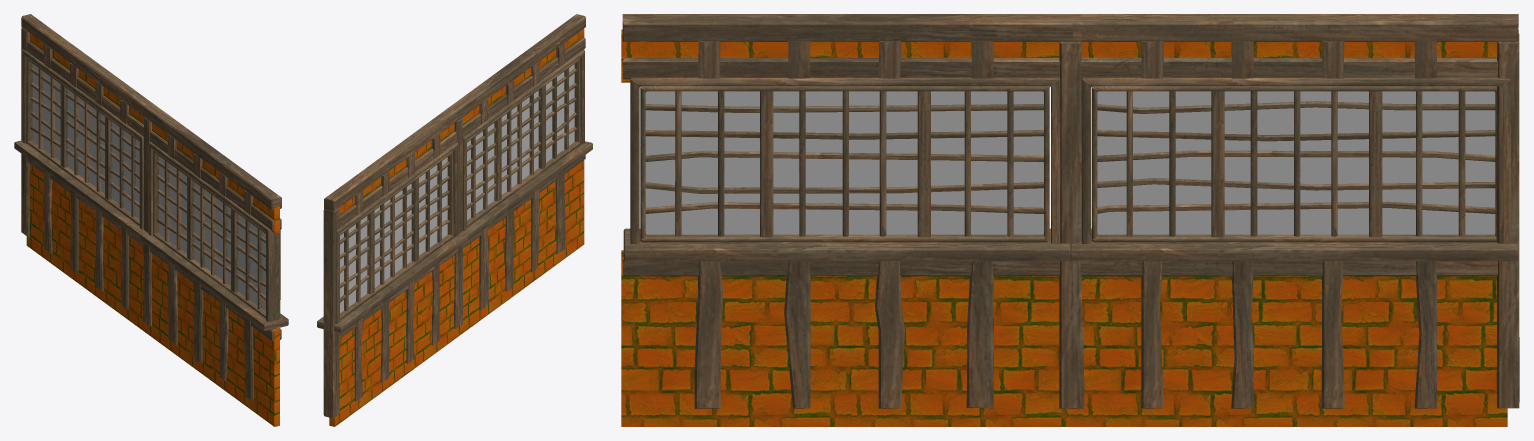
The model's file is SM_wall_16.fbx.
3 views of the same model, side by side, from view 1: azimuth 30°, elevation 25°; view 2: azimuth 150°, elevation 25°; view 3: azimuth 270°, elevation 25° (orthographic). The views are drawn at different scales.
Parts seen in each view (by area): view 1: SM_wall_16_LOD0; view 2: SM_wall_16_LOD0; view 3: SM_wall_16_LOD0.
Boxes of the visible parts, box(x1,y1,x2,y2) form: SM_wall_16_LOD0: box(14, 14, 288, 426); SM_wall_16_LOD0: box(317, 14, 592, 426); SM_wall_16_LOD0: box(621, 14, 1519, 426).
Size of the model in its own units: 45.65 by 800 by 400.
